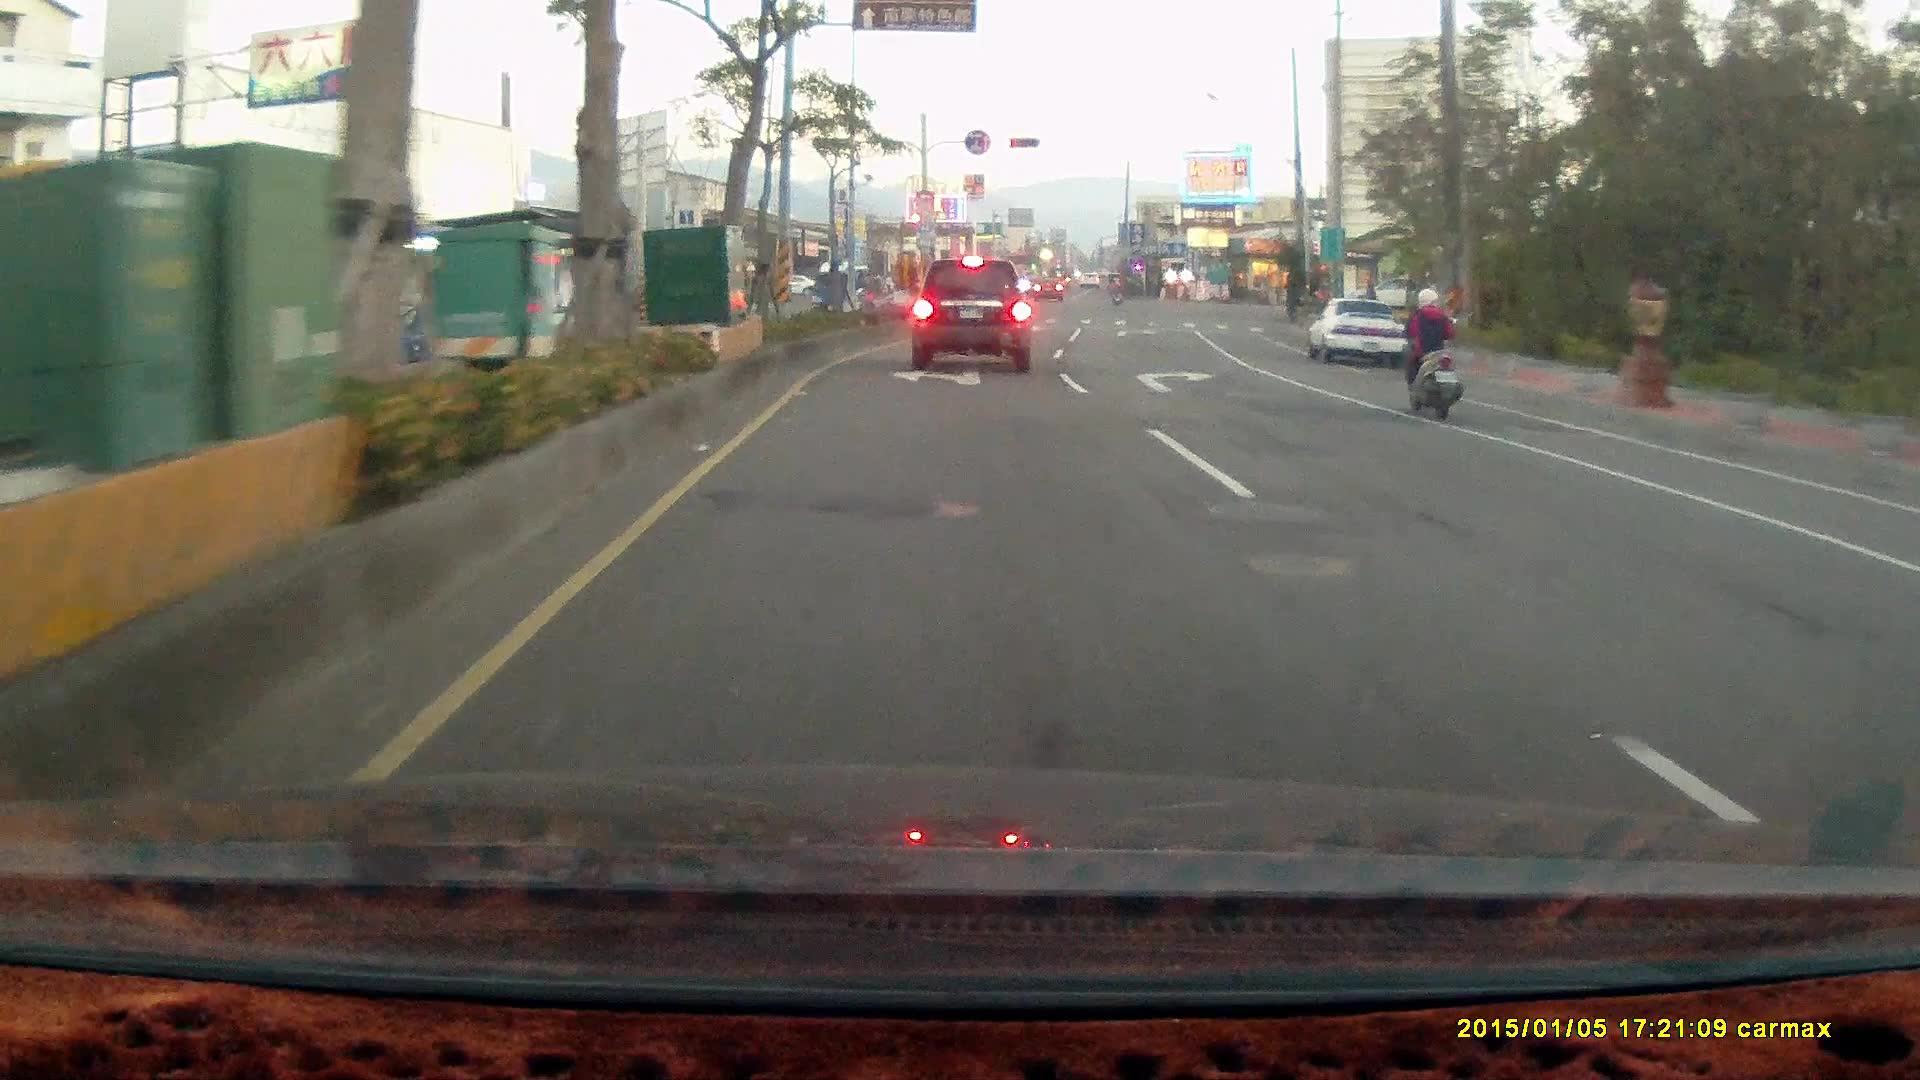rider: (1388, 277, 1465, 414)
vehicle: (909, 255, 1030, 373), (1896, 493, 1920, 836), (1309, 295, 1411, 369), (1305, 294, 1407, 367), (1883, 528, 1920, 690), (1344, 273, 1428, 310)
